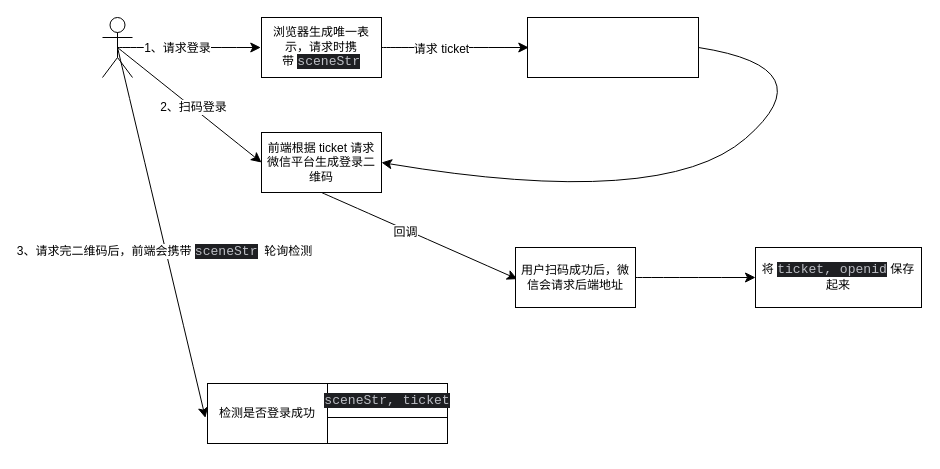
Some shapes in this 940 by 469 pixel diagram are drawn without their labels. The shapes that lost their labels are listed below. From the top down, each one's box as (x1, y1, x2, y2) in pixels, then its label:
(102, 16, 132, 78): Actor
(526, 16, 698, 78): 创建 ticket 保存 sceneStr, ticket
(326, 416, 448, 444): ticket, openid
